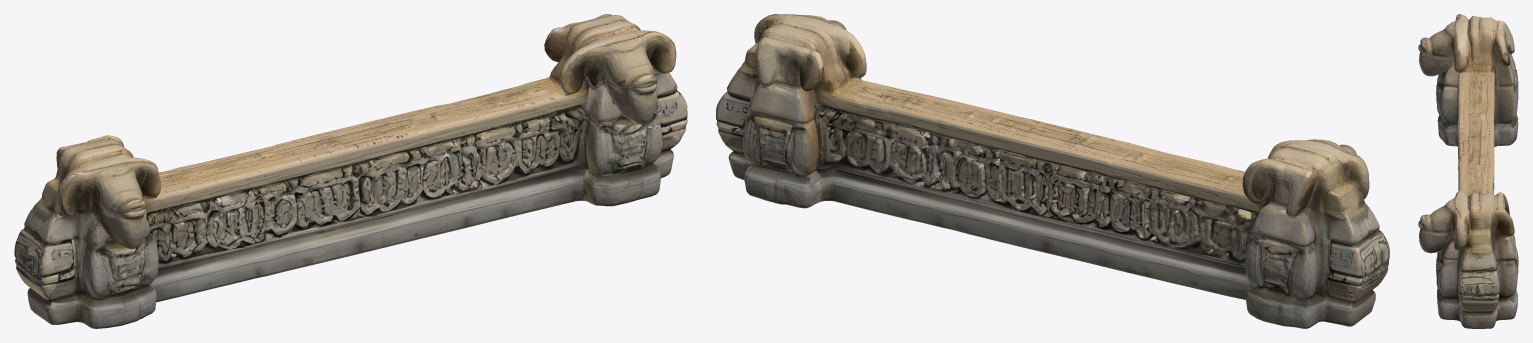
File: carved-granite-ceiling-beam-optimized.glb
3 views of the same model, side by side, from view 1: azimuth 30°, elevation 25°; view 2: azimuth 150°, elevation 25°; view 3: azimuth 270°, elevation 25° (orthographic). The views are drawn at different scales.
Visible parts, largest first — view 1: b24e37b3-d942-4019-9e58-6457c0cded7c_texturing.obj; view 2: b24e37b3-d942-4019-9e58-6457c0cded7c_texturing.obj; view 3: b24e37b3-d942-4019-9e58-6457c0cded7c_texturing.obj.
Boxes of the visible parts, box(x1,y1,x2,y2) form: b24e37b3-d942-4019-9e58-6457c0cded7c_texturing.obj: box(14, 14, 687, 328); b24e37b3-d942-4019-9e58-6457c0cded7c_texturing.obj: box(716, 14, 1389, 328); b24e37b3-d942-4019-9e58-6457c0cded7c_texturing.obj: box(1418, 14, 1518, 328).
Size of the model in its own units: 4.5 by 1.04 by 0.8465.
Materials: 1 (1 with a texture image).
